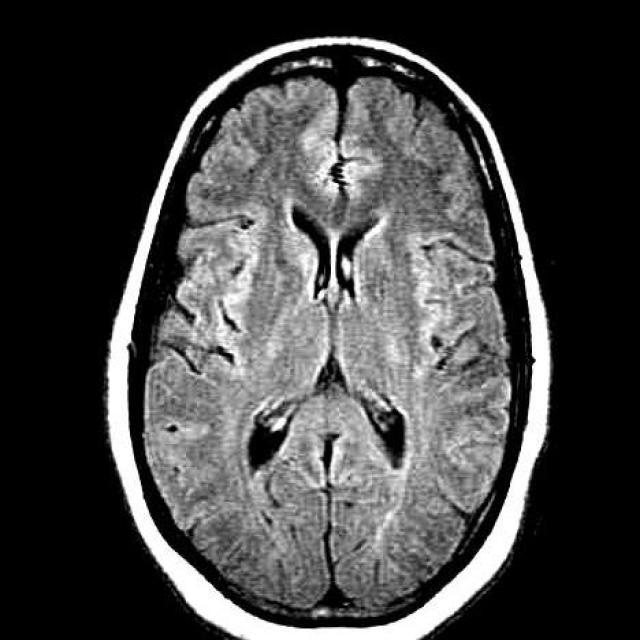notumor: (107, 39, 551, 639)
